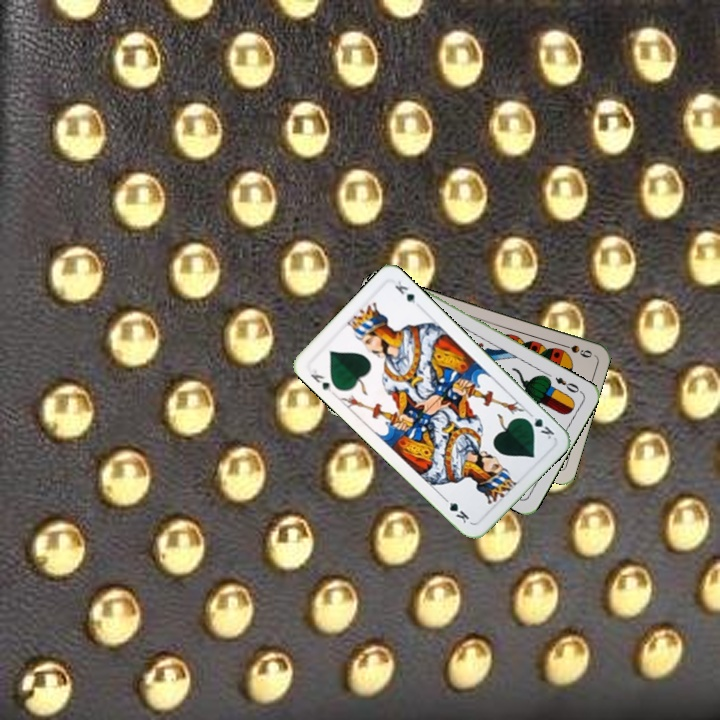EO: (551, 373, 585, 396)
GK: (521, 408, 557, 442), (306, 365, 335, 395)
S9: (556, 339, 594, 360)
